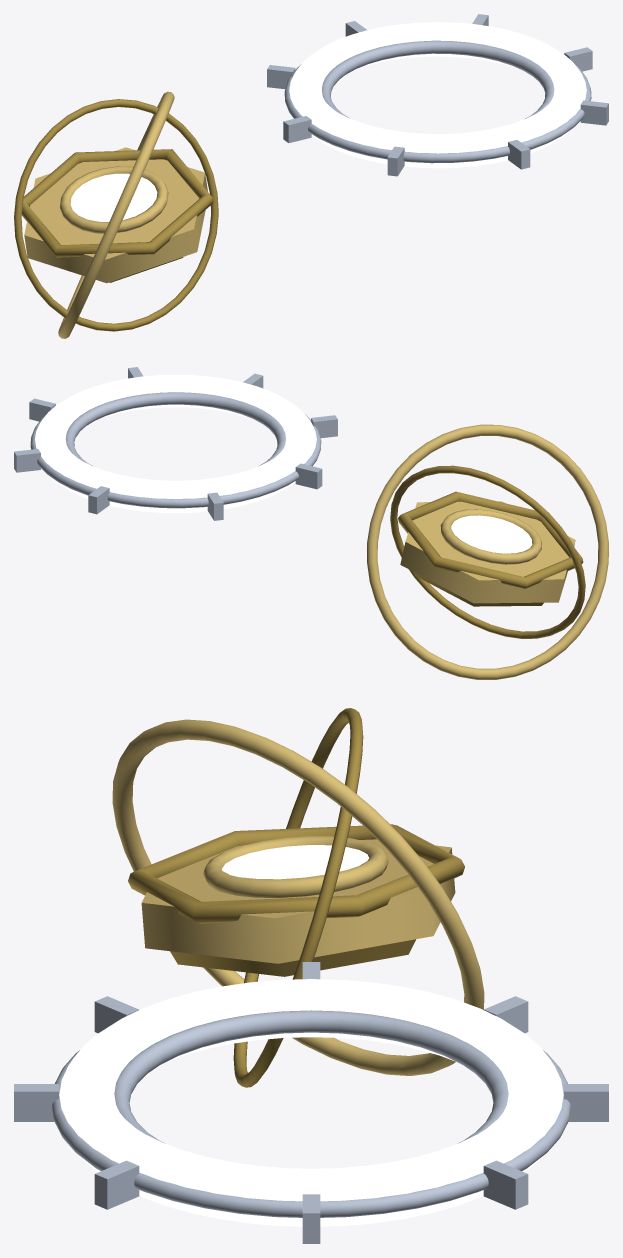
Rendered from pickups.glb.
The picture shows the model from 3 angles, top to bottom: view 1: azimuth 30°, elevation 25°; view 2: azimuth 150°, elevation 25°; view 3: azimuth 270°, elevation 25°; orthographic projection. The views are drawn at different scales.
Parts seen in each view (by area): view 1: pulse_ring_ring_band, power_chip_chip_plate, power_chip_orbit_ring_inner, power_chip_chip_bezel, pulse_ring_ring_inner_lip, pulse_ring, power_chip_orbit_ring, pulse_ring_ring_outer_lip, power_chip_chip_core, power_chip_chip_core_rim; view 2: pulse_ring_ring_band, power_chip_orbit_ring, power_chip_chip_plate, power_chip_orbit_ring_inner, power_chip_chip_bezel, pulse_ring_ring_inner_lip, pulse_ring, pulse_ring_ring_outer_lip, power_chip_chip_core, power_chip_chip_core_rim, power_chip_chip_plate_under; view 3: pulse_ring_ring_band, power_chip_orbit_ring, power_chip_chip_plate, pulse_ring_ring_inner_lip, pulse_ring, power_chip_chip_bezel, pulse_ring_ring_outer_lip, power_chip_orbit_ring_inner, power_chip_chip_core_rim, power_chip_chip_core, power_chip_chip_plate_under.
Boxes of the visible parts, x1,y1,x2,y2 form: pulse_ring_ring_band: [289, 22, 586, 168]; power_chip_chip_plate: [24, 147, 207, 283]; power_chip_orbit_ring_inner: [14, 99, 218, 331]; power_chip_chip_bezel: [22, 149, 213, 257]; pulse_ring_ring_inner_lip: [322, 40, 554, 118]; pulse_ring: [267, 14, 608, 176]; power_chip_orbit_ring: [58, 91, 174, 338]; pulse_ring_ring_outer_lip: [284, 64, 591, 163]; power_chip_chip_core: [70, 173, 157, 221]; power_chip_chip_core_rim: [59, 166, 168, 233]; pulse_ring_ring_band: [35, 374, 316, 513]; power_chip_orbit_ring: [367, 424, 608, 679]; power_chip_chip_plate: [400, 501, 575, 603]; power_chip_orbit_ring_inner: [390, 465, 585, 638]; power_chip_chip_bezel: [398, 491, 583, 588]; pulse_ring_ring_inner_lip: [65, 392, 285, 466]; pulse_ring: [14, 367, 337, 520]; pulse_ring_ring_outer_lip: [30, 414, 321, 508]; power_chip_chip_core: [451, 515, 532, 553]; power_chip_chip_core_rim: [440, 509, 541, 564]; power_chip_chip_plate_under: [414, 572, 543, 606]; pulse_ring_ring_band: [59, 979, 563, 1226]; power_chip_orbit_ring: [112, 719, 484, 1075]; power_chip_chip_plate: [141, 839, 455, 963]; pulse_ring_ring_inner_lip: [114, 1010, 508, 1143]; pulse_ring: [14, 962, 608, 1243]; power_chip_chip_bezel: [128, 824, 464, 923]; pulse_ring_ring_outer_lip: [51, 1050, 571, 1217]; power_chip_orbit_ring_inner: [233, 708, 363, 1087]; power_chip_chip_core_rim: [203, 836, 388, 897]; power_chip_chip_core: [221, 845, 368, 879]; power_chip_chip_plate_under: [170, 939, 415, 976].
Bounding box in the file's own units: 10.08 × 3.78 × 5.3.
